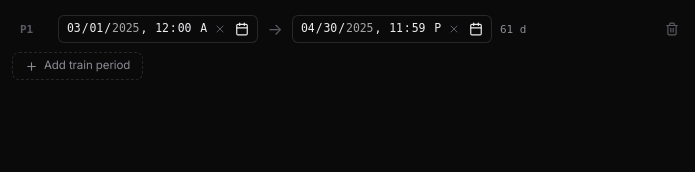
Train period rows against the loaded data › typing a date beyond the data flags the row AT ONCE (on change, before blur) and hands the period up as typed
The width and height of the screenshot is (695, 172).
Replace the text in the field named "P1 start" with "2026-05-01T00:00". click: (133, 29)
box: [59, 16, 207, 42]
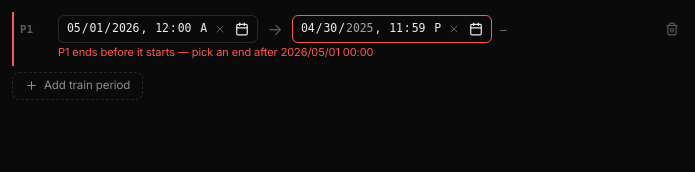
Expected: the message with test id "period-invalid-1" shows "P1 ends before it starts", [58, 45, 373, 59]
# ... and once the end is typed too, it is a period outside the data
Replace the text in the field named "P1 end" with "2026-06-01T00:00". click: (367, 29)
box: [293, 16, 441, 42]
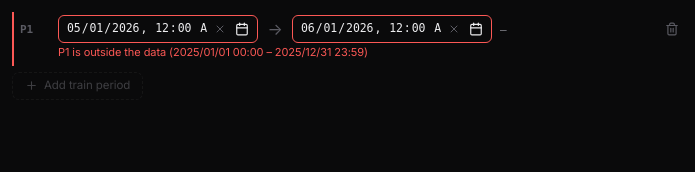
Expected: the message with test id "period-invalid-1" reads "P1 is outside the data (2025/01/01 00:00 – 2025/12/31 23:59)", [58, 45, 368, 59]
